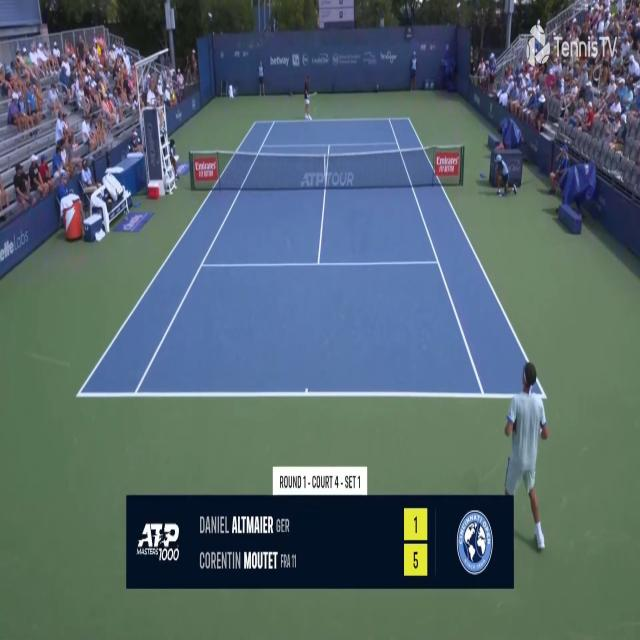tennis-player: (503, 358, 550, 552), (302, 73, 318, 124)
